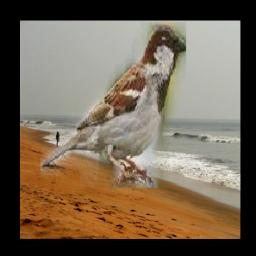Sparrow: (41, 22, 187, 188)
